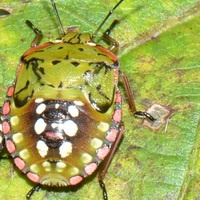insect: (96, 0, 199, 199), (103, 0, 166, 42), (55, 0, 117, 32), (56, 0, 115, 32), (31, 177, 101, 199), (0, 160, 31, 199), (52, 177, 101, 199)
